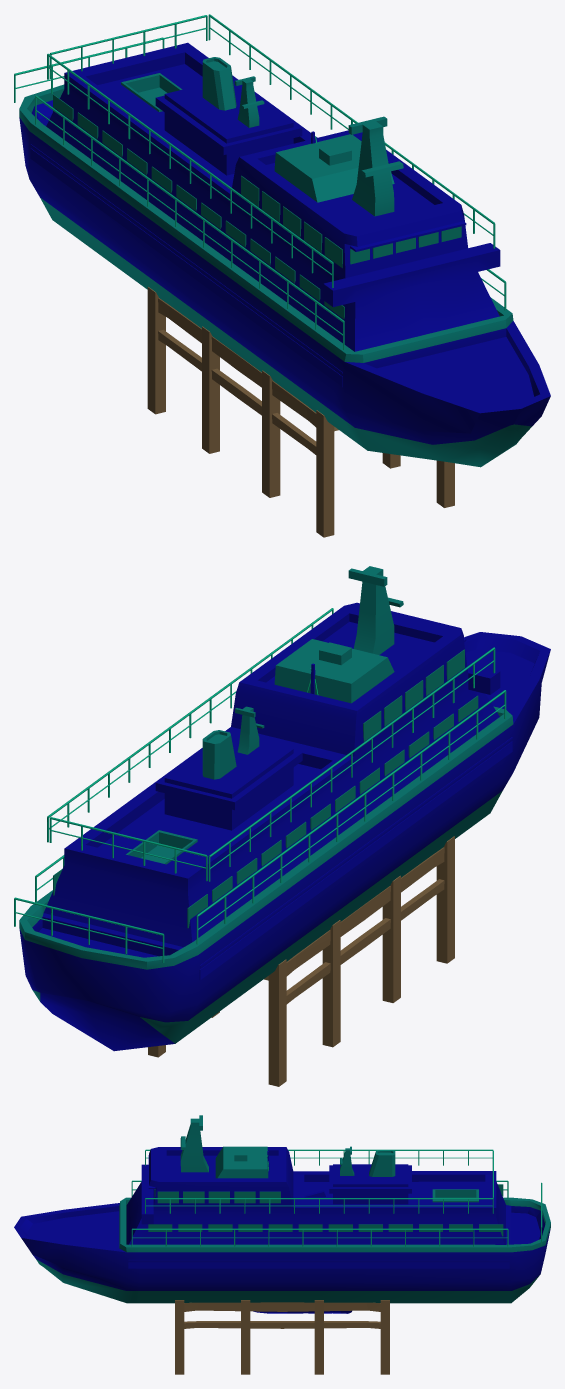
File: boats.glb
3 renders of one model, top to bottom at view 1: azimuth 30°, elevation 25°; view 2: azimuth 150°, elevation 25°; view 3: azimuth 270°, elevation 25°, orthographic. The views are drawn at different scales.
Visible parts, largest first — view 1: boat_ferry__all, pier__all; view 2: boat_ferry__all, pier__all; view 3: boat_ferry__all, pier__all.
Boxes of the visible parts, x1,y1,x2,y2 form: boat_ferry__all: (14, 14, 550, 467); pier__all: (147, 287, 454, 537); boat_ferry__all: (14, 566, 550, 1051); pier__all: (148, 836, 454, 1086); boat_ferry__all: (14, 1115, 550, 1303); pier__all: (175, 1300, 389, 1374).
Size of the model in its own units: 4.46 by 9.63 by 20.
